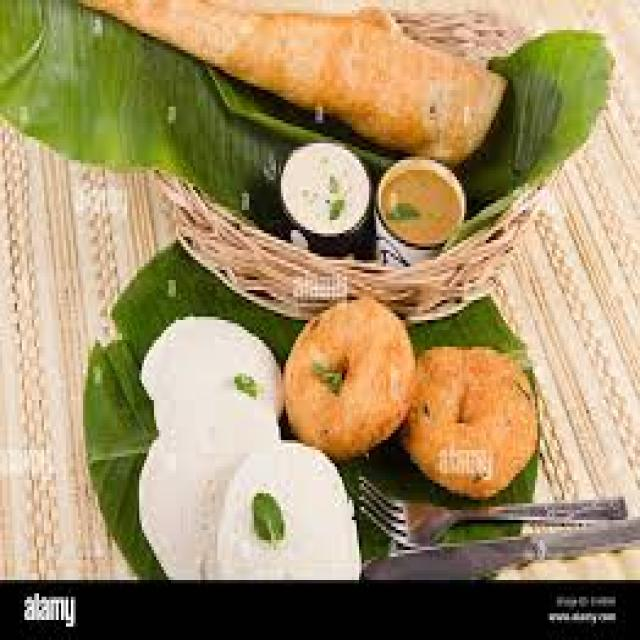DOSA: (73, 0, 503, 157)
IDLI: (137, 316, 361, 585)
MEDU VADA: (394, 340, 541, 503), (273, 295, 411, 460)
